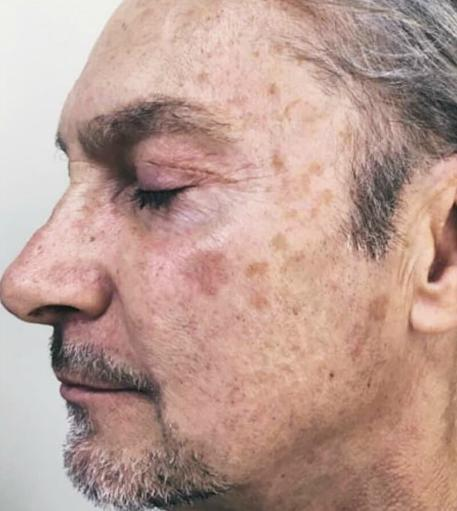left_eye: (119, 163, 226, 208)
left_lip_corner: (124, 378, 154, 409)
